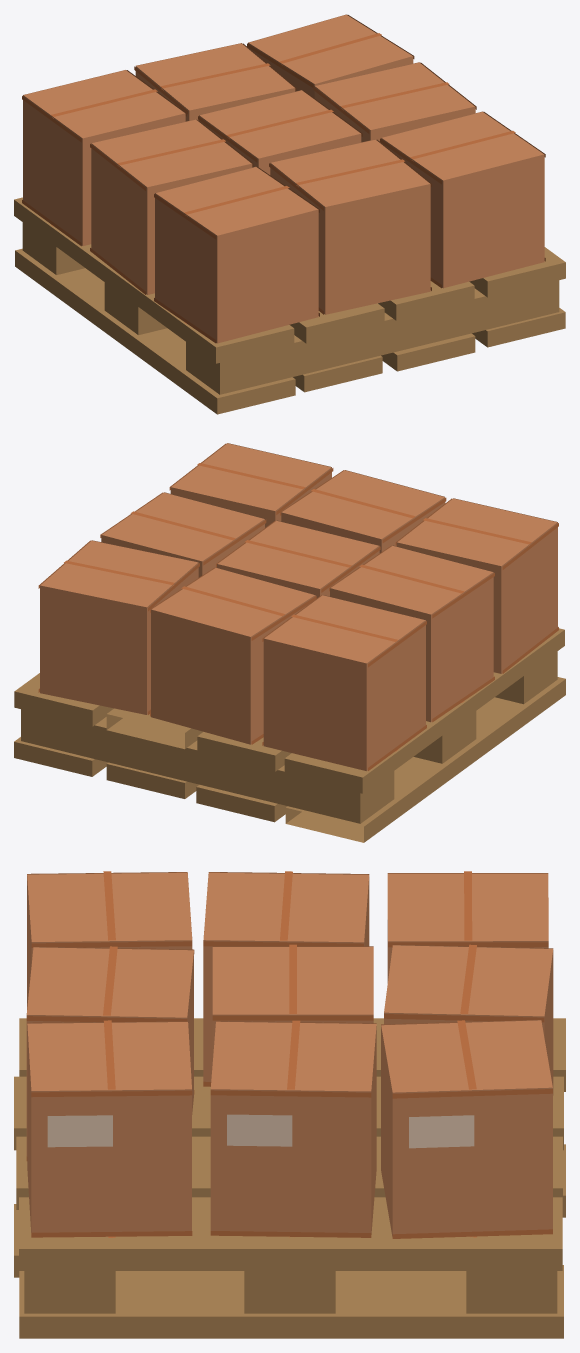
The model's file is SRA_Box_Pallet_02.glb.
3 views of the same model, one above another, from view 1: azimuth 30°, elevation 25°; view 2: azimuth 150°, elevation 25°; view 3: azimuth 270°, elevation 25° (orthographic). The views are drawn at different scales.
Visible parts, largest first — view 1: Box_Pallet_02; view 2: Box_Pallet_02; view 3: Box_Pallet_02.
Part boxes in pixels (bbox=[...]): Box_Pallet_02: bbox=[14, 14, 565, 414]; Box_Pallet_02: bbox=[14, 443, 565, 842]; Box_Pallet_02: bbox=[14, 871, 565, 1338].
Bounding box in the file's own units: 0.9506 × 0.4569 × 0.9613.
1 material, 1 textured.
